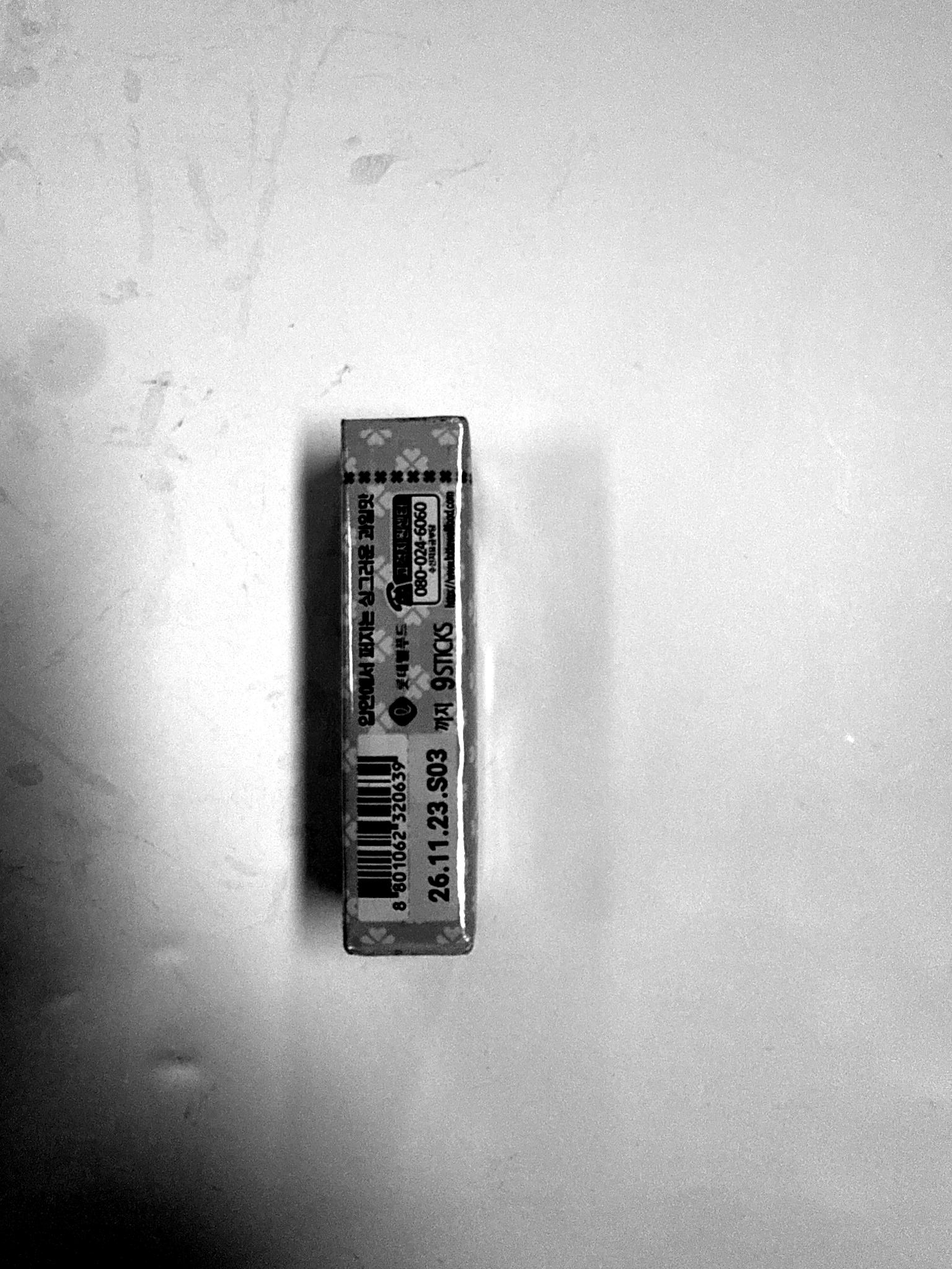gum_yellow: (343, 415, 479, 955)
